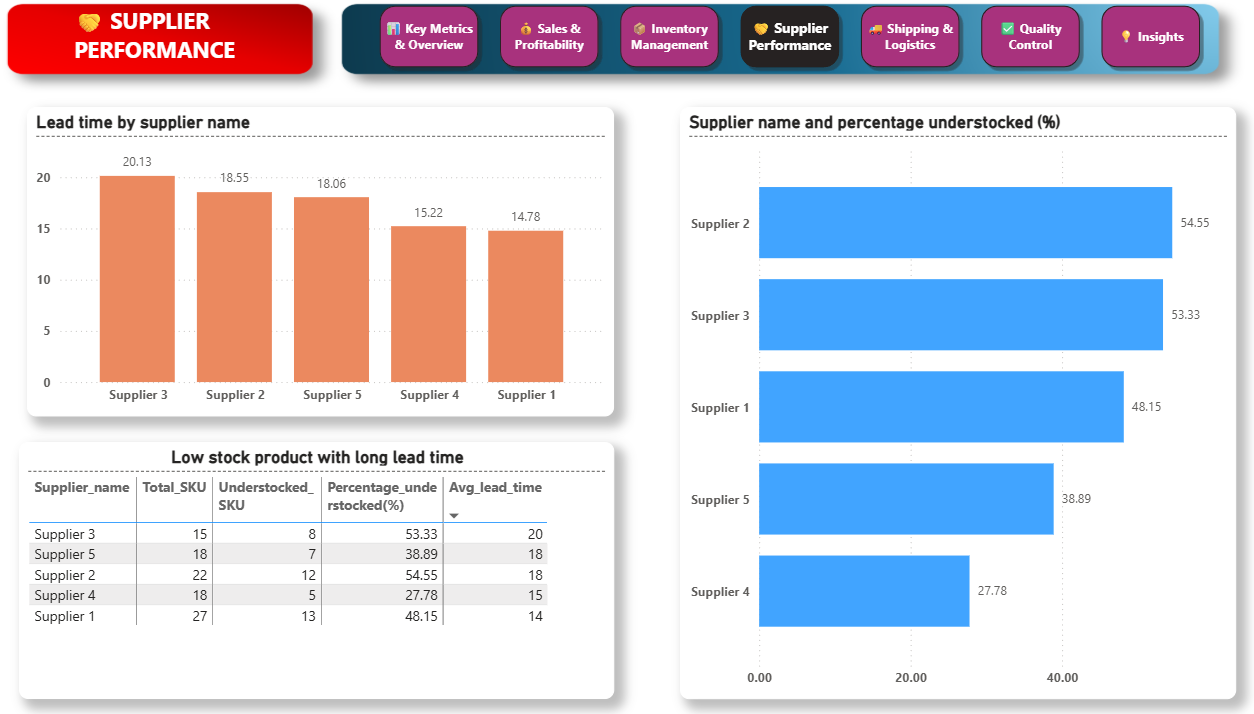

The page's visual inventory and layout, read from the dashboard file:
{"tool":"powerbi","page":{"name":"🤝 Supplier Performance","canvas":[1280,720],"ordinal":3},"visuals":[{"type":"clusteredColumnChart","title":"Lead time by supplier name","fields":{"Category":["supply2.Supplier_name"],"Y":["Avg(supply2.Lead_time)"]},"box":[69.1,121.6,570.9,300.5],"z":0},{"type":"clusteredBarChart","title":"Supplier name and percentage understocked (%)","fields":{"Category":["supplier_stockout_status.Supplier_name"],"Y":["Sum(supplier_stockout_status.Percentage_understocked)"]},"box":[704.2,121.6,540.8,575.8],"z":1000},{"type":"tableEx","title":"Low stock product with long lead time","fields":{"Values":["supplier_stockout_status.Supplier_name","supplier_stockout_status.Total_SKU","supplier_stockout_status.Understocked_SKU","supplier_stockout_status.Percentage_understocked","supplier_stockout_status.Avg_lead_time"]},"box":[61.3,447.4,578.7,250],"z":2000},{"type":"image","box":[44.7,17.5,1209,91.4],"z":3000},{"type":"pageNavigator","box":[406.6,17.5,811.2,71],"z":4000},{"type":"textbox","box":[109.9,17.5,241.2,81.7],"z":5000}]}

Visuals, with their boxes in screenshot pixels (x1, y1, x2, y2), scaled from the page's 1280x720 canvas onto the 1254x714 screenshot:
"Lead time by supplier name" clusteredColumnChart: crop(68, 121, 627, 419)
"Supplier name and percentage understocked (%)" clusteredBarChart: crop(690, 121, 1220, 692)
"Low stock product with long lead time" tableEx: crop(60, 444, 627, 692)
image: crop(44, 17, 1228, 108)
pageNavigator: crop(398, 17, 1193, 88)
textbox: crop(108, 17, 344, 98)
